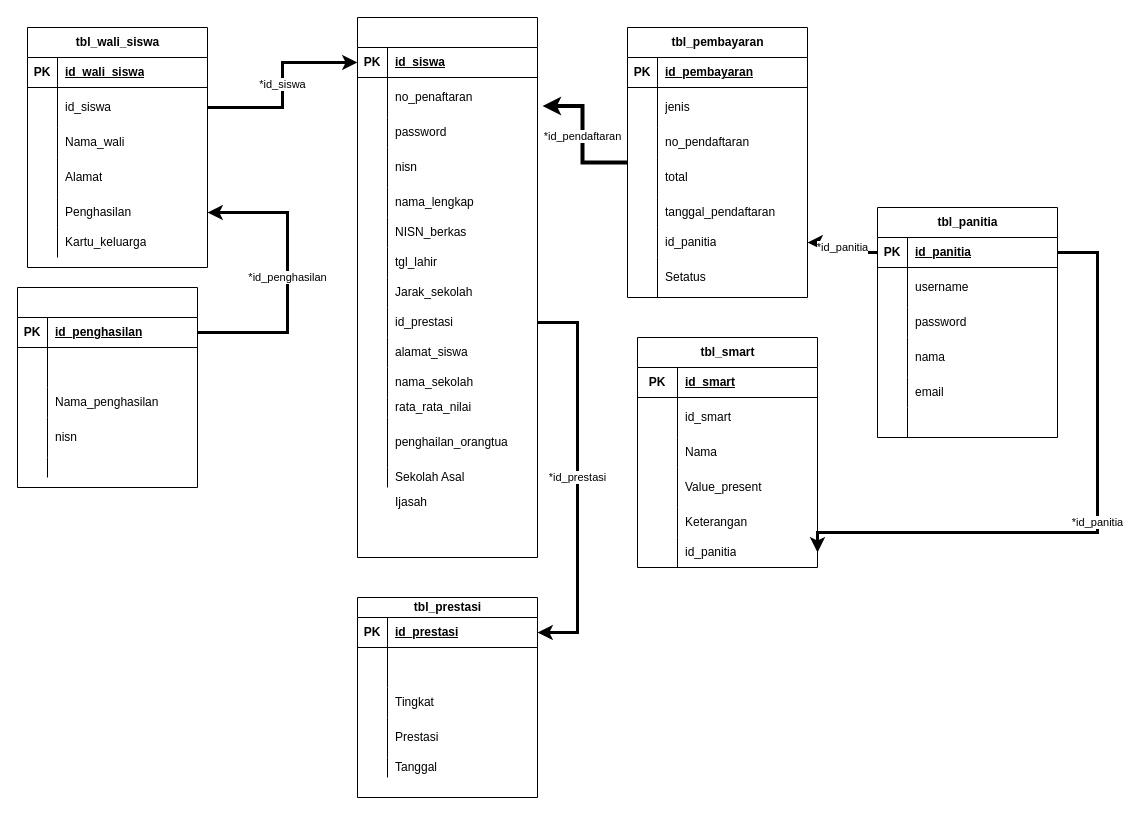
Some shapes in this 1140 by 815 pixel diagram are drawn without their labels. The shapes that lost their labels are listed below. From the top down, each one's box as (x1, y1, x2, y2) in pixels, then its label:
(356, 16, 538, 558): tbl_siswa
(16, 286, 198, 488): tbl_penghasilan
